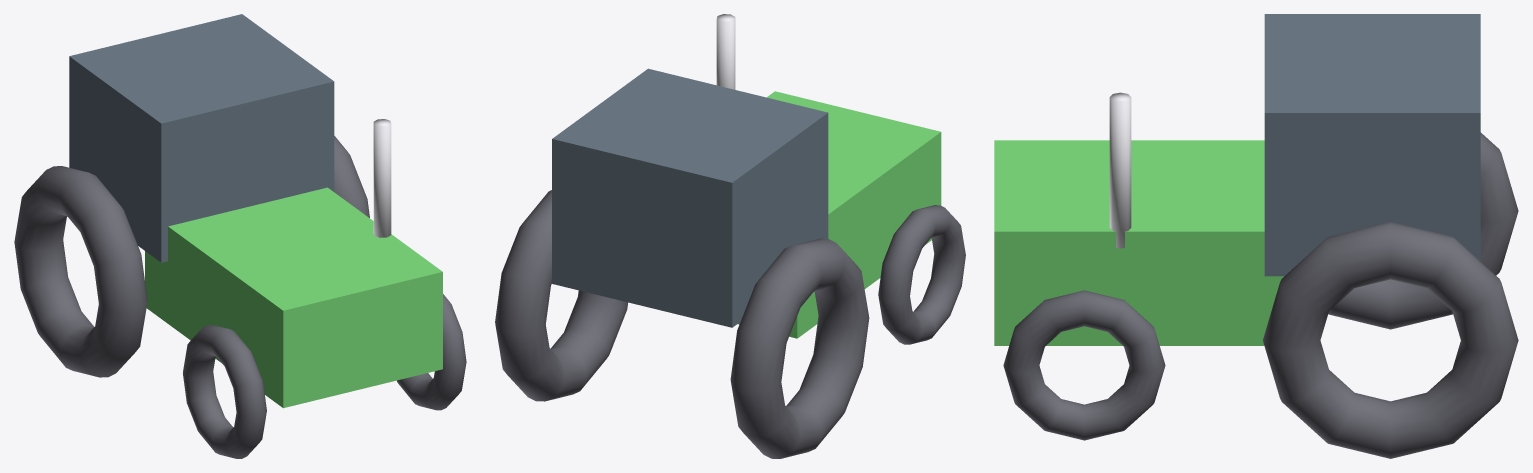
File: 9371c8ed-1a91-4032-a011-ed731aa7fdee.glb
3 renders of one model, left to right at view 1: azimuth 30°, elevation 25°; view 2: azimuth 150°, elevation 25°; view 3: azimuth 270°, elevation 25°, orthographic. The views are drawn at different scales.
Parts seen in each view (by area): view 1: Generated3DMesh; view 2: Generated3DMesh; view 3: Generated3DMesh.
Part boxes in pixels (left/top/right/bottom): Generated3DMesh: left=14, top=14, right=466, bottom=458; Generated3DMesh: left=495, top=14, right=965, bottom=458; Generated3DMesh: left=994, top=14, right=1518, bottom=458.
Bounding box in the file's own units: 2.02 × 2.06 × 2.91.
